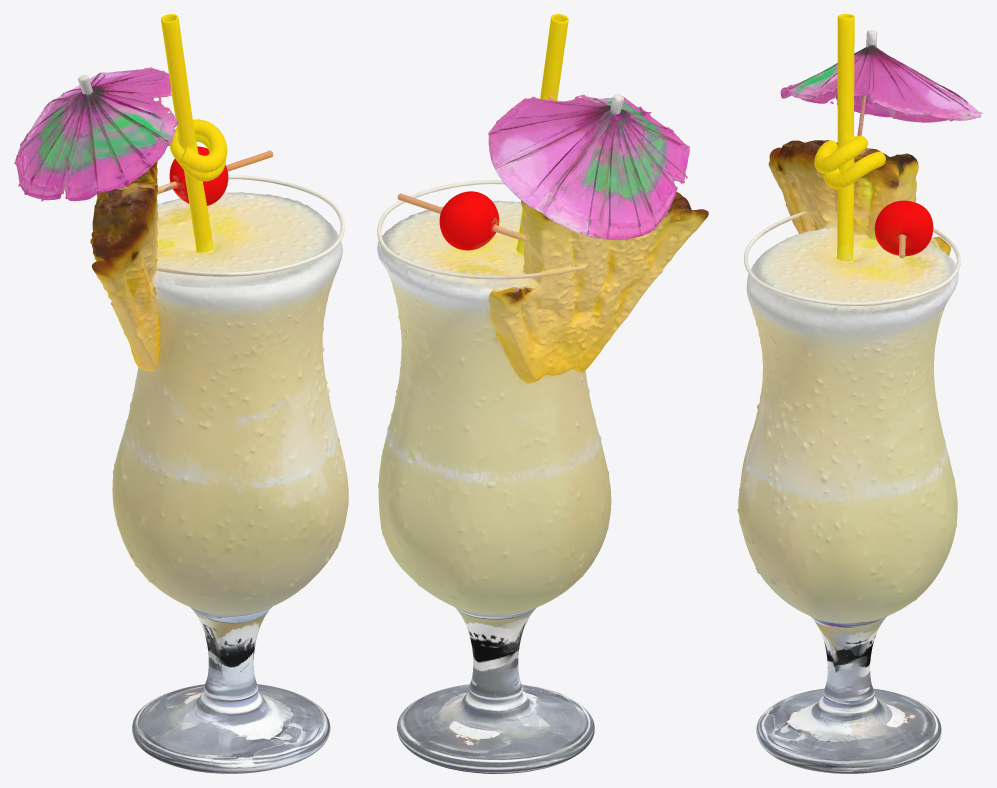
The model's file is Pina_Colada.glb.
The picture shows the model from 3 angles, left to right: view 1: azimuth 30°, elevation 25°; view 2: azimuth 150°, elevation 25°; view 3: azimuth 270°, elevation 25°; orthographic projection. The views are drawn at different scales.
Bounding box in the file's own units: 0.7765 × 1.9 × 0.6082.
1 material, 1 textured.
